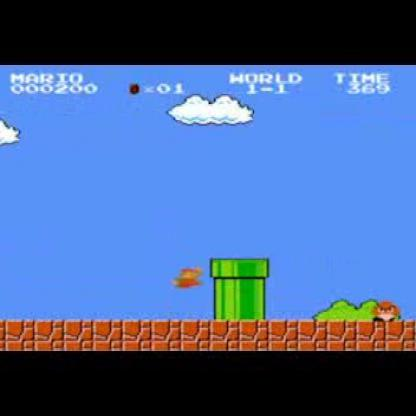Goomba: (371, 296, 400, 324)
